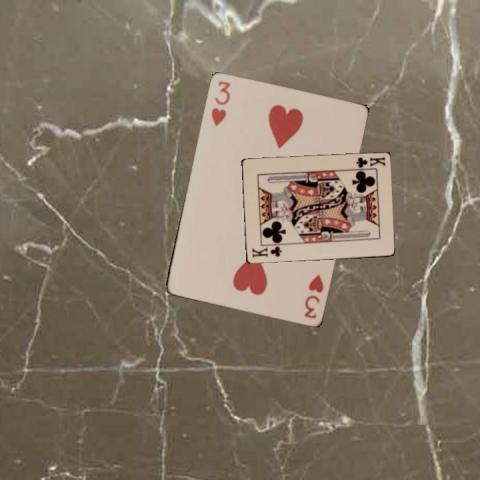3h: (208, 77, 232, 128), (300, 271, 324, 320)
Kc: (249, 244, 283, 259), (353, 154, 386, 169)
